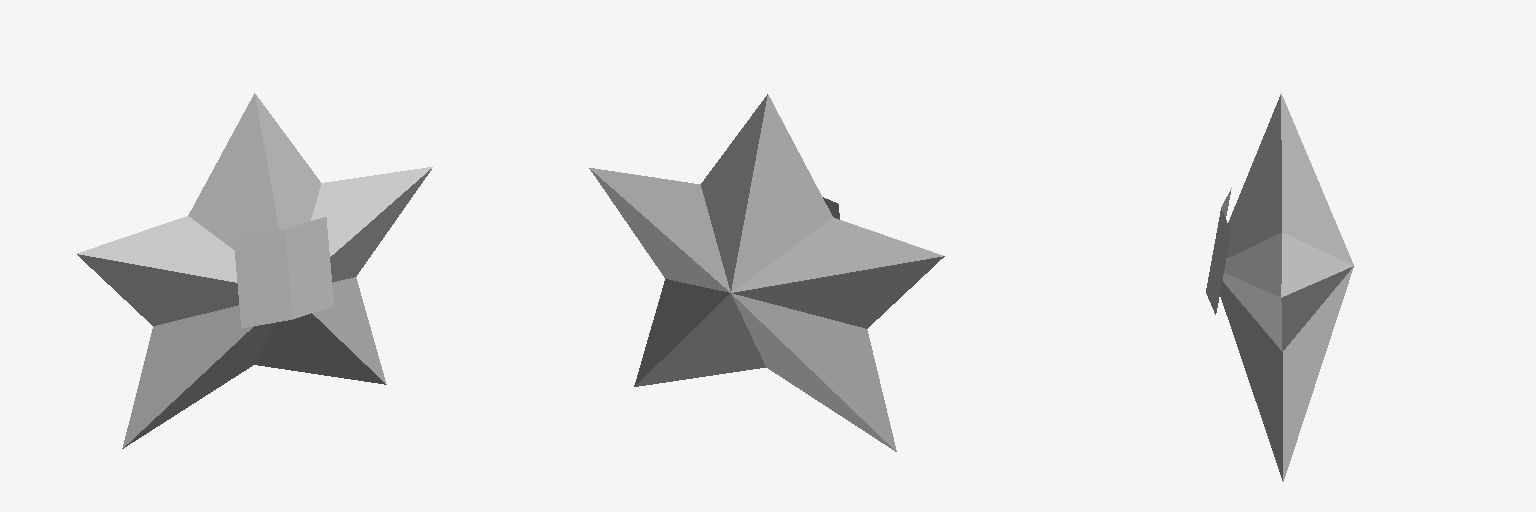
File: star.obj
3 views of the same model, side by side, from view 1: azimuth 30°, elevation 25°; view 2: azimuth 150°, elevation 25°; view 3: azimuth 270°, elevation 25° (orthographic).
Bounding box in the file's own units: 3.21 × 2.8 × 1.15.